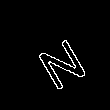N_NW: (27, 24, 87, 88)
